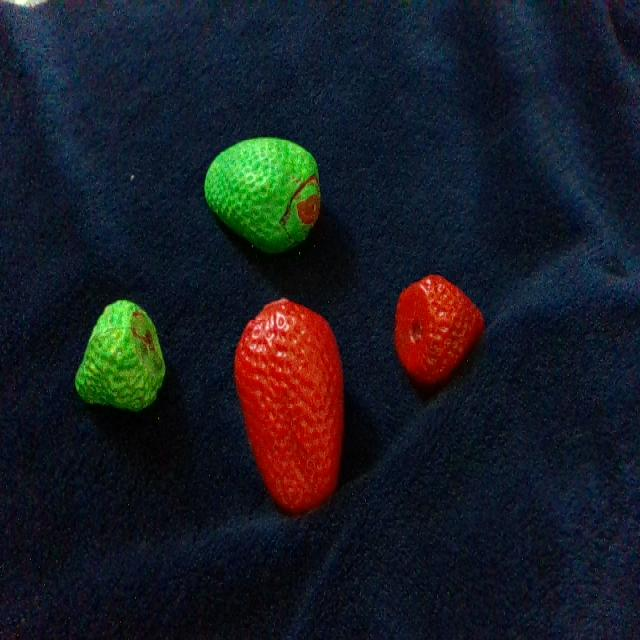chica_roja: (394, 275, 484, 385)
grande_roja: (235, 299, 343, 513)
verde: (205, 137, 320, 252), (75, 300, 164, 411)
